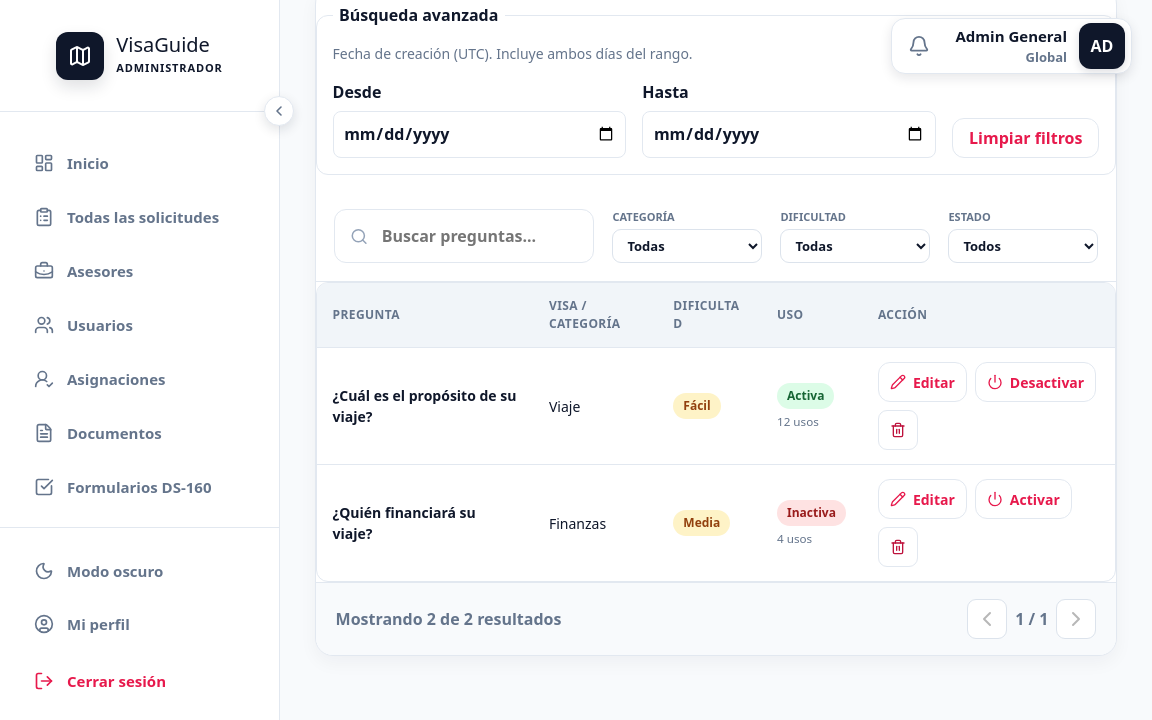
panel de administracion › confirma y elimina preguntas desde el panel
(page scrolled)
Check: the text "¿Quién financiará su viaje?" is shown, box [332,503,476,543]
What coordinates should you click on to do the following:
click the button named "Eliminar pregunta: ¿Quién financiará su viaje?"
I would click on:
 (898, 547)
Its box is [878,527,918,567].
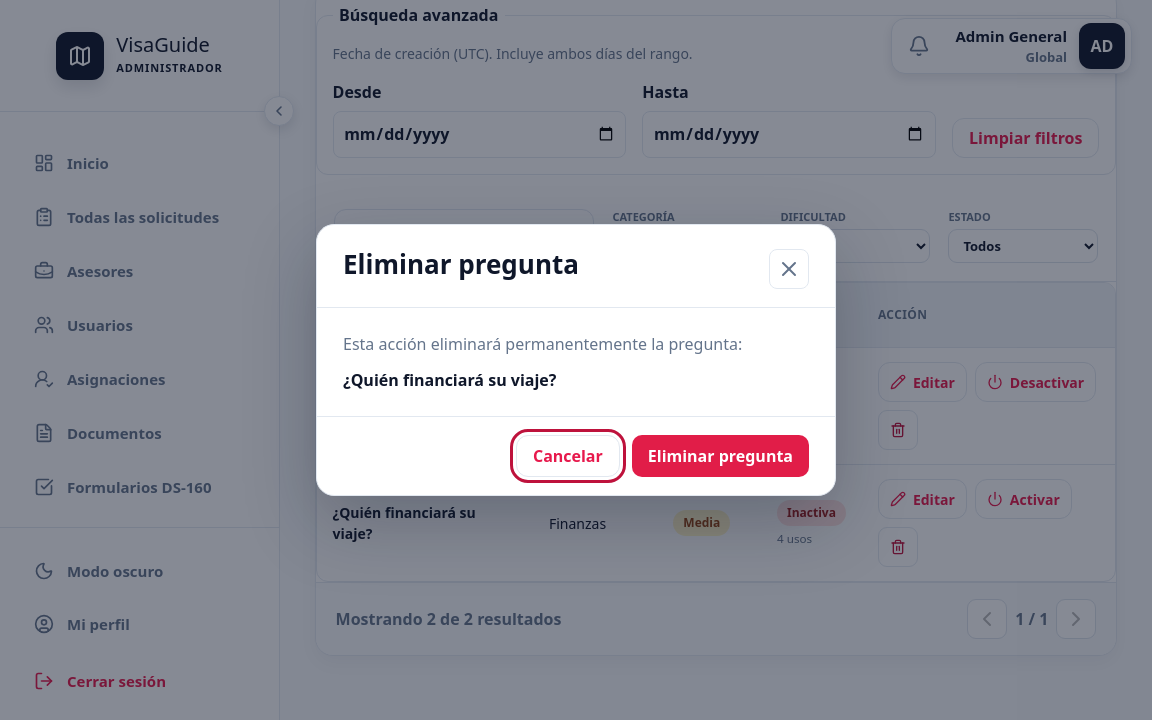
Check: the text "¿Quién financiará su viaje?" is shown, box [343,369,556,391]
What coordinates should you click on to do the following:
click the button "Eliminar pregunta"
I would click on:
 (720, 456)
Its box is [632,435,809,477].
(page scrolled)
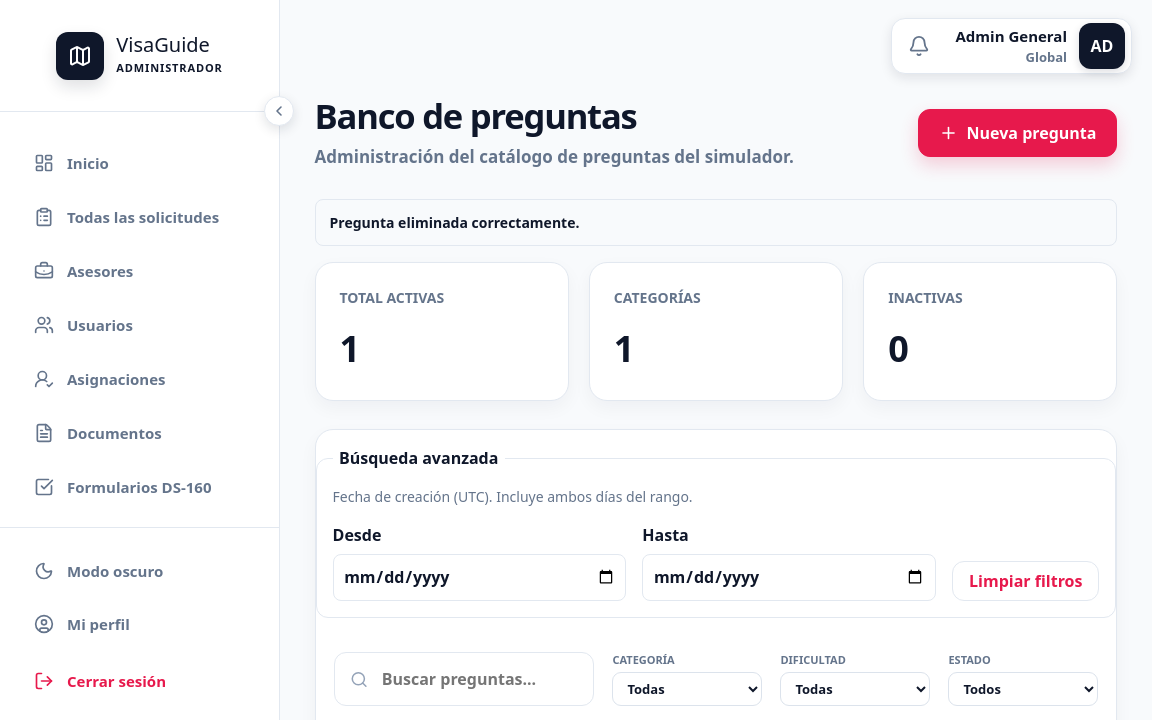
Check: the text "Pregunta eliminada correctamente." is shown, box [314,199,1117,246]
Check: the text "¿Quién financiará su viaje?" is gone
